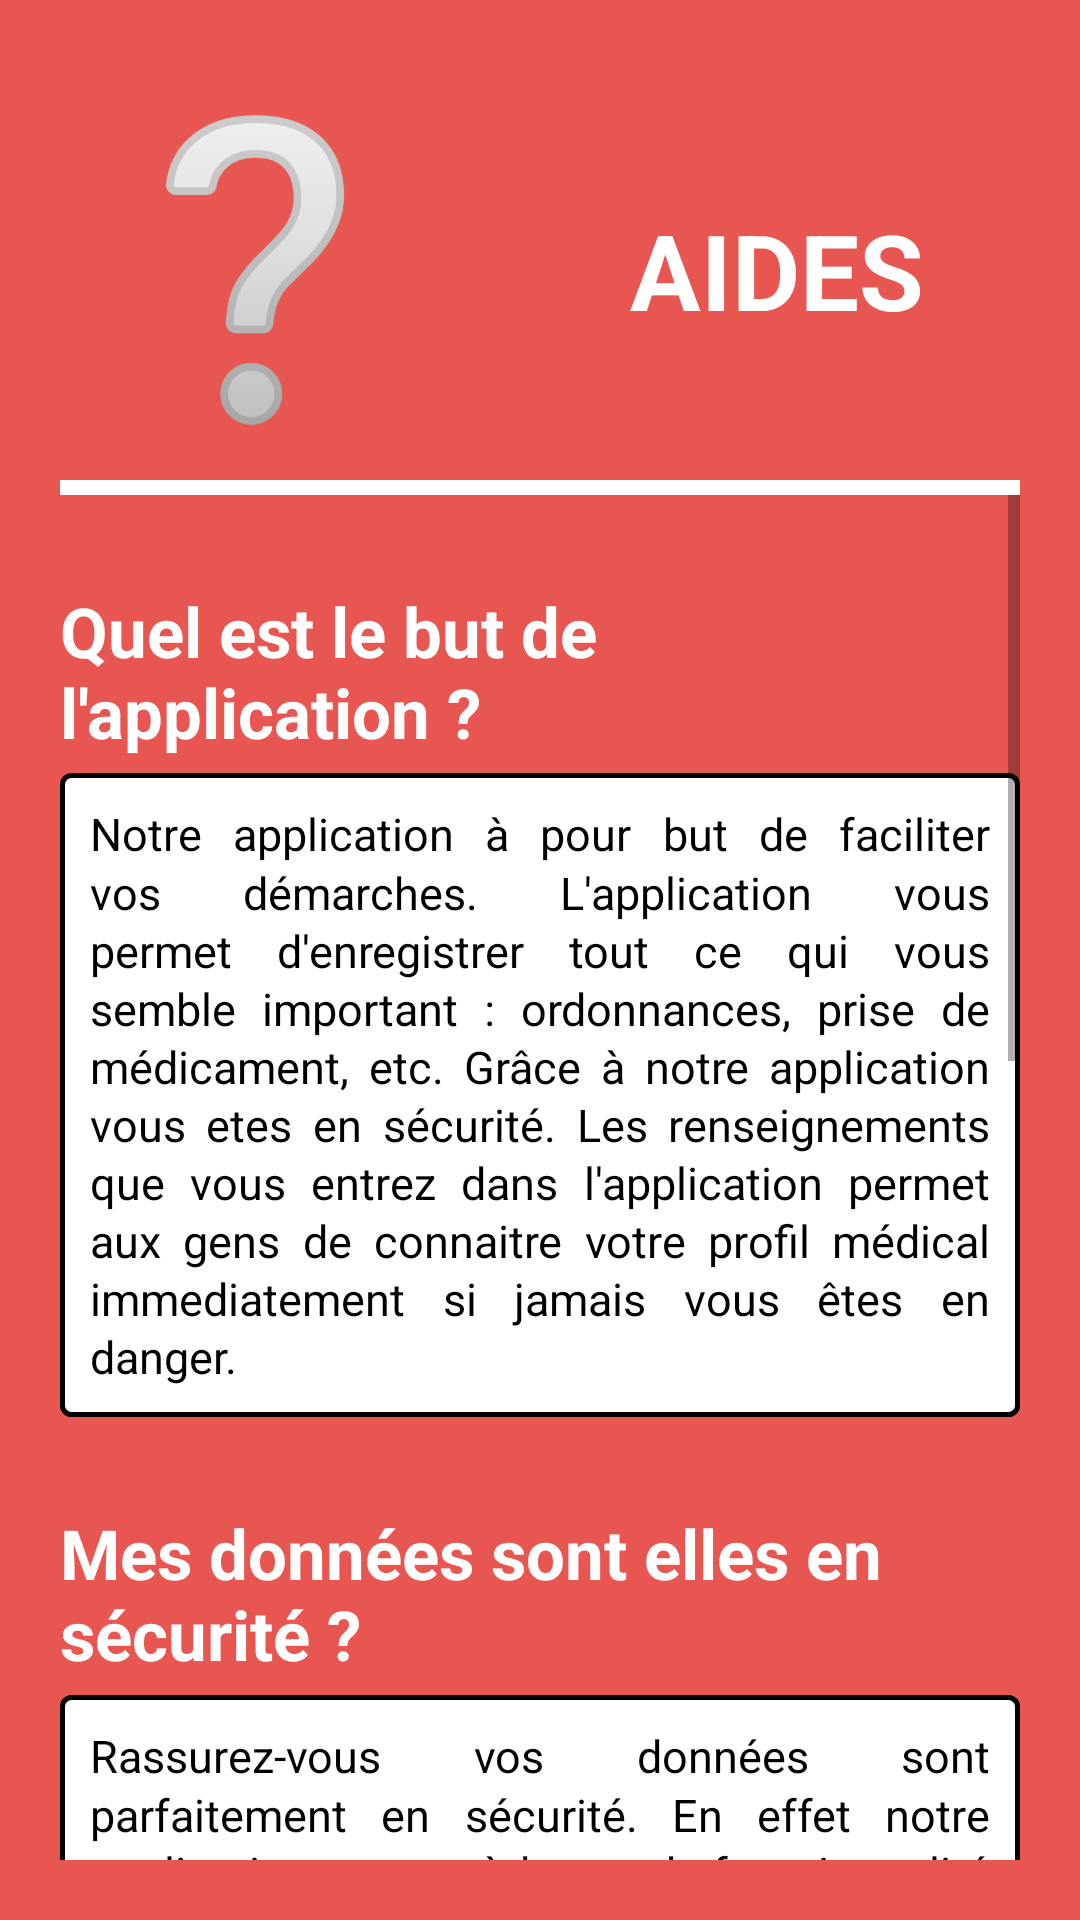

Icons on this 1080px×1920px Android screen, each with the point to tap as [x,y]:
item aides: [255,270]
